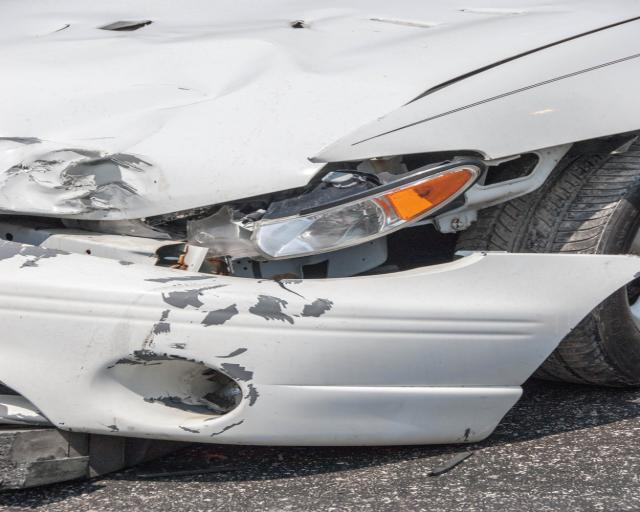crack: (90, 20, 154, 31), (272, 279, 306, 299)
dent: (0, 0, 574, 220)
lamp broken: (189, 153, 484, 258)
scratch: (113, 270, 332, 436)
